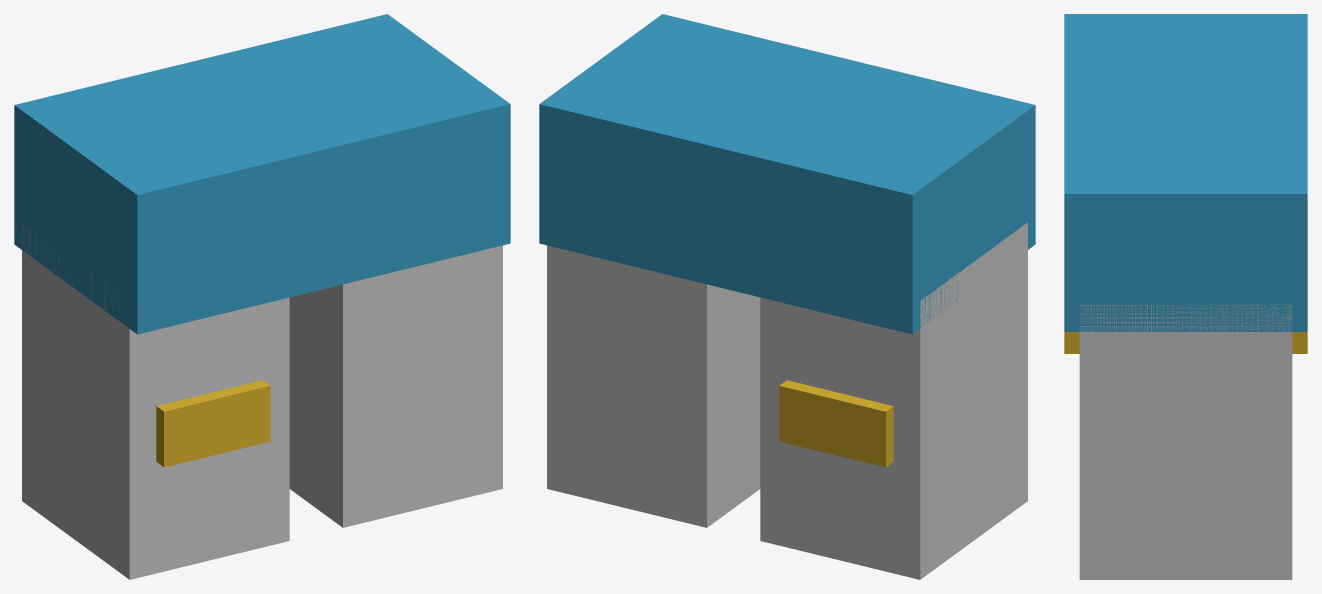
File: apex_leggings.obj
The picture shows the model from 3 angles, left to right: view 1: azimuth 30°, elevation 25°; view 2: azimuth 150°, elevation 25°; view 3: azimuth 270°, elevation 25°; orthographic projection.
Parts seen in each view (by area): view 1: apex_leggings; view 2: apex_leggings; view 3: apex_leggings.
Boxes of the visible parts, x1,y1,x2,y2 form: apex_leggings: (14,14,510,579); apex_leggings: (539,14,1035,579); apex_leggings: (1064,14,1307,579).
Bounding box in the file's own units: 0.28 × 0.28 × 0.16.
